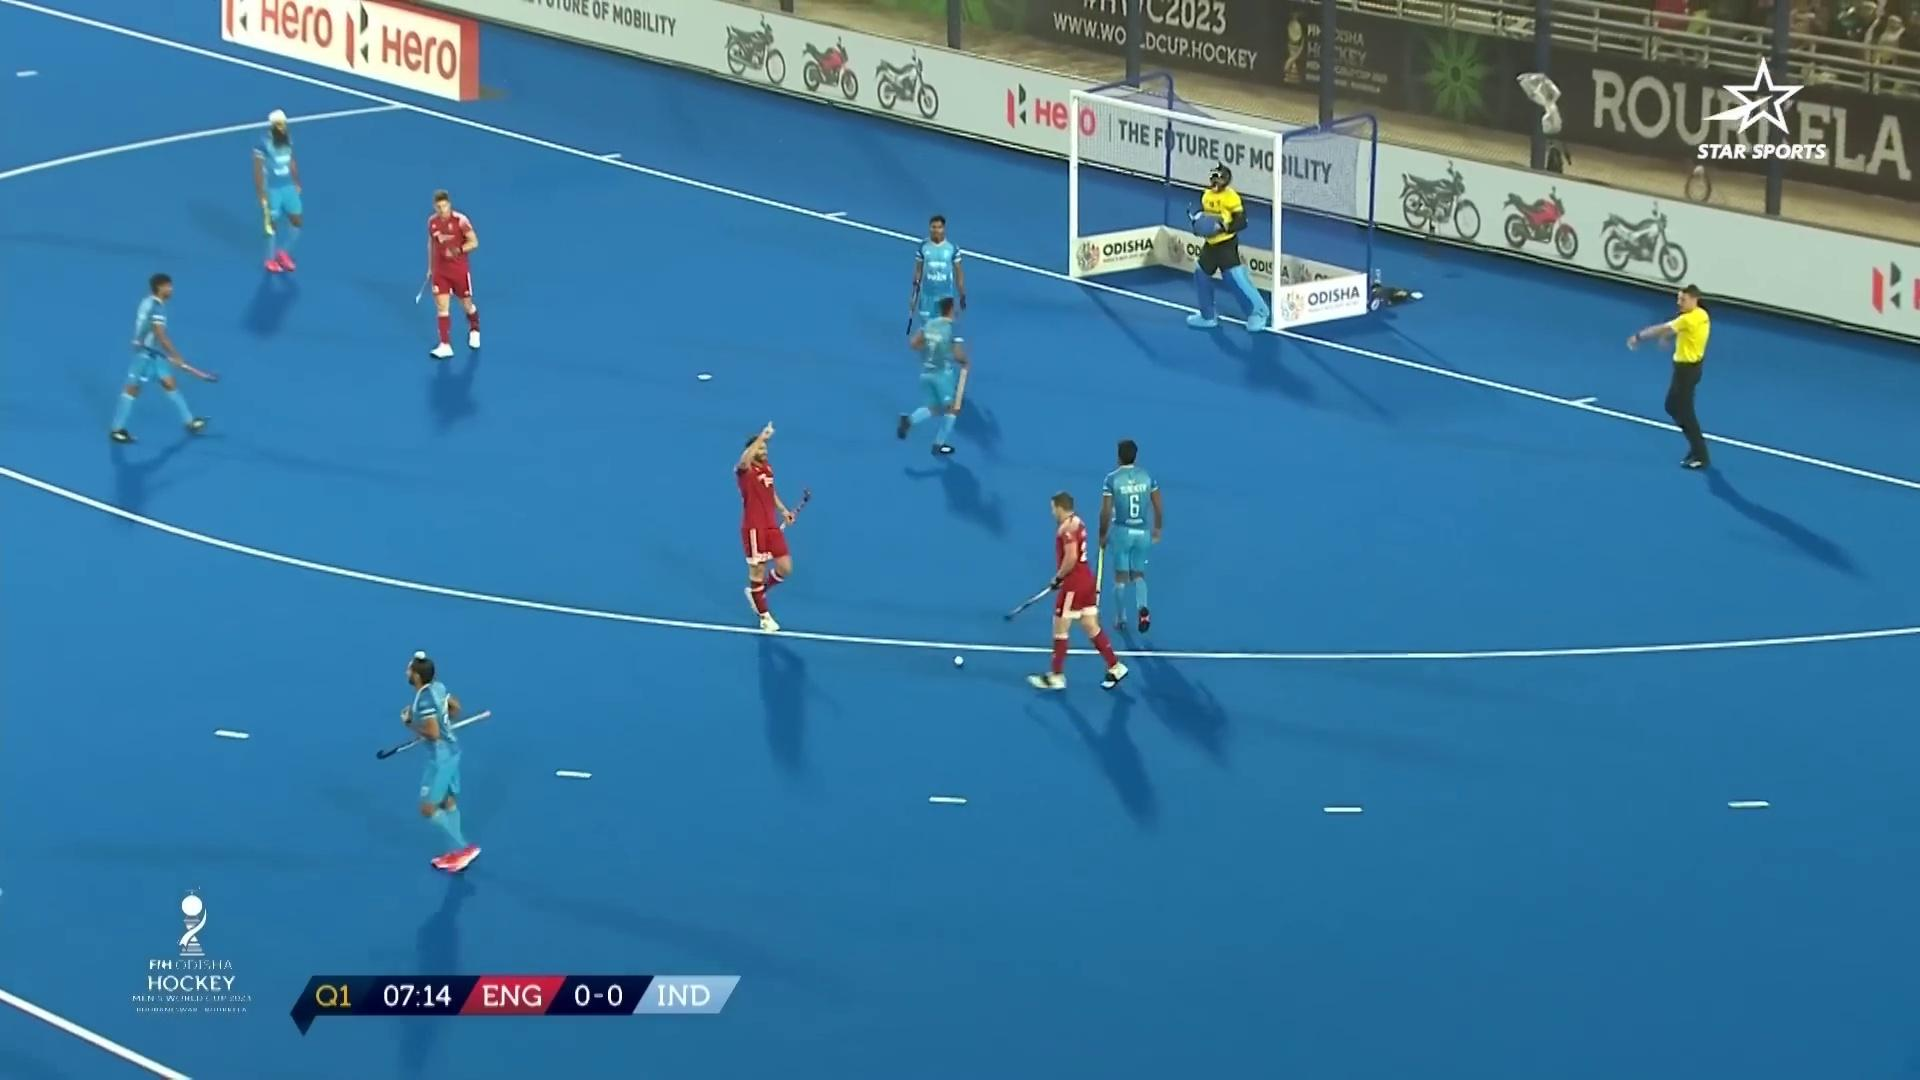ball: (938, 644, 980, 673)
